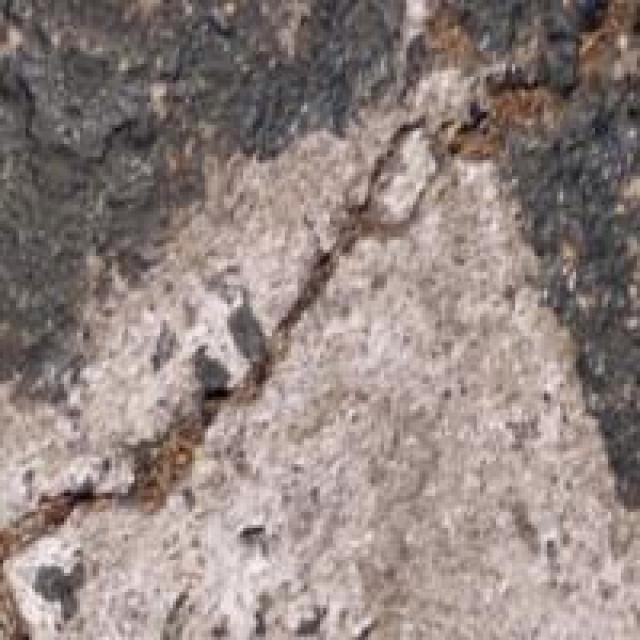SurfaceCrack: (0, 128, 404, 626)
